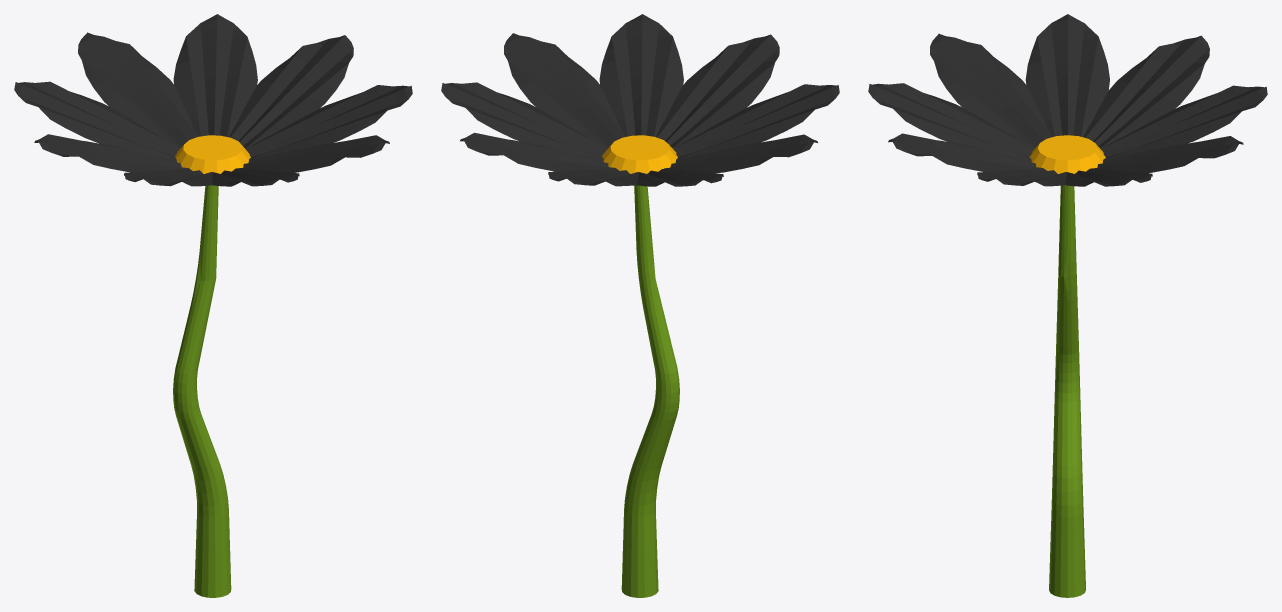
The model's file is white_daisy.fbx.
3 views of the same model, side by side, from view 1: azimuth 30°, elevation 25°; view 2: azimuth 150°, elevation 25°; view 3: azimuth 270°, elevation 25° (orthographic).
Parts seen in each view (by area): view 1: Circle, Circle.001; view 2: Circle, Circle.001; view 3: Circle, Circle.001.
Part boxes in pixels (x1,y1,x2,y2): Circle: (14, 14, 412, 186); Circle.001: (173, 135, 250, 597); Circle: (441, 14, 839, 186); Circle.001: (602, 135, 679, 597); Circle: (868, 14, 1267, 186); Circle.001: (1029, 135, 1105, 597).
Size of the model in its own units: 2049 by 2816 by 2076.
